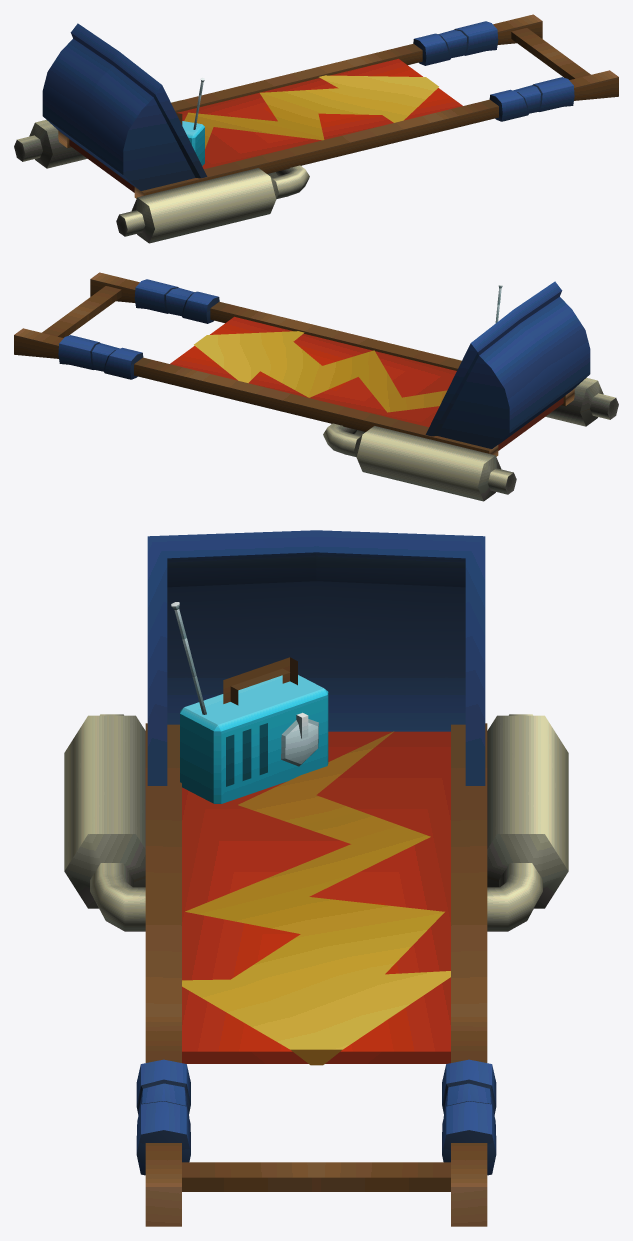
The model's file is shanghaiBoard01.glb.
3 views of the same model, one above another, from view 1: azimuth 30°, elevation 25°; view 2: azimuth 150°, elevation 25°; view 3: azimuth 270°, elevation 25° (orthographic). The views are drawn at different scales.
Visible parts, largest first — view 1: shanghaiBoard01; view 2: shanghaiBoard01; view 3: shanghaiBoard01.
Part boxes in pixels (x1,y1,x2,y2): shanghaiBoard01: (14, 14, 618, 243); shanghaiBoard01: (14, 272, 618, 501); shanghaiBoard01: (64, 530, 568, 1226).
Size of the model in its own units: 14.1 by 3.83 by 6.1.
1 material, 1 textured.
